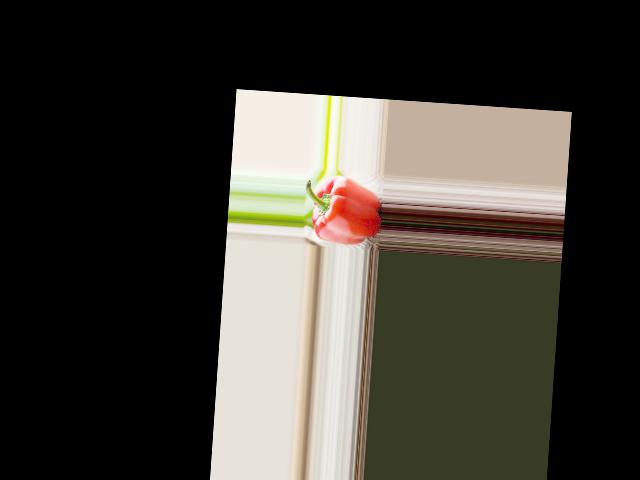bell_pepper: (304, 171, 385, 245)
